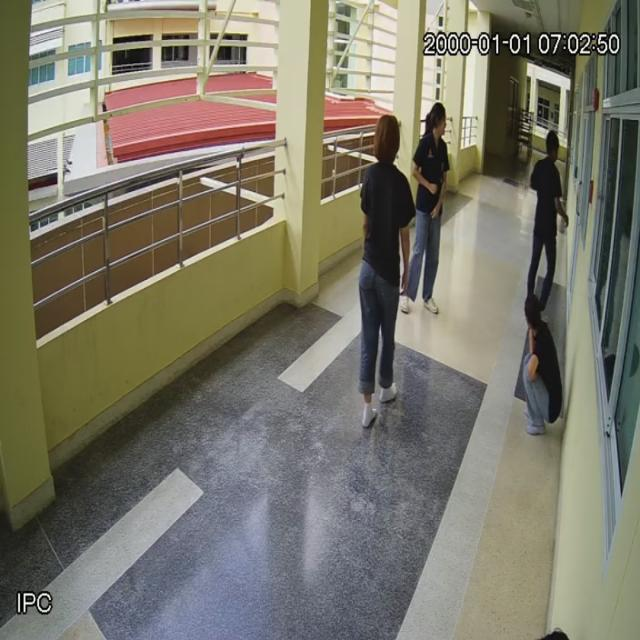normal: (360, 114, 414, 422), (411, 104, 454, 312), (527, 126, 570, 297), (521, 292, 564, 446)
